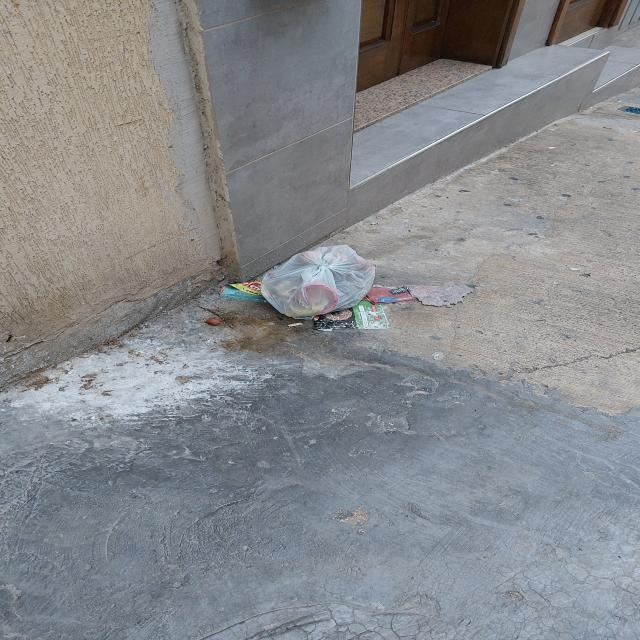Organic Waste -White Bag-: (259, 244, 381, 321)
